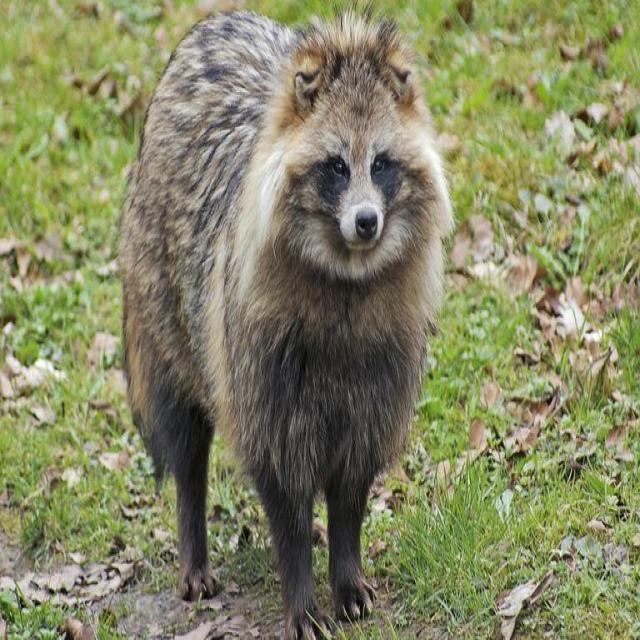Raccoon: (111, 11, 458, 640)
